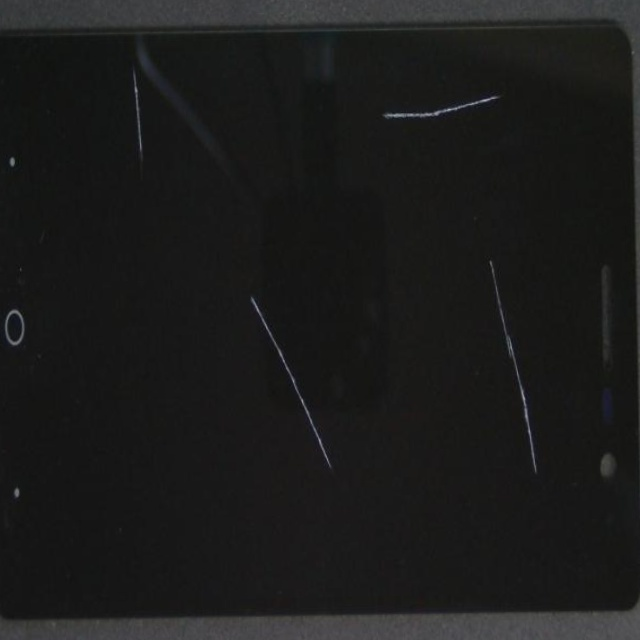scratch: (209, 323, 497, 633), (44, 0, 203, 162)
